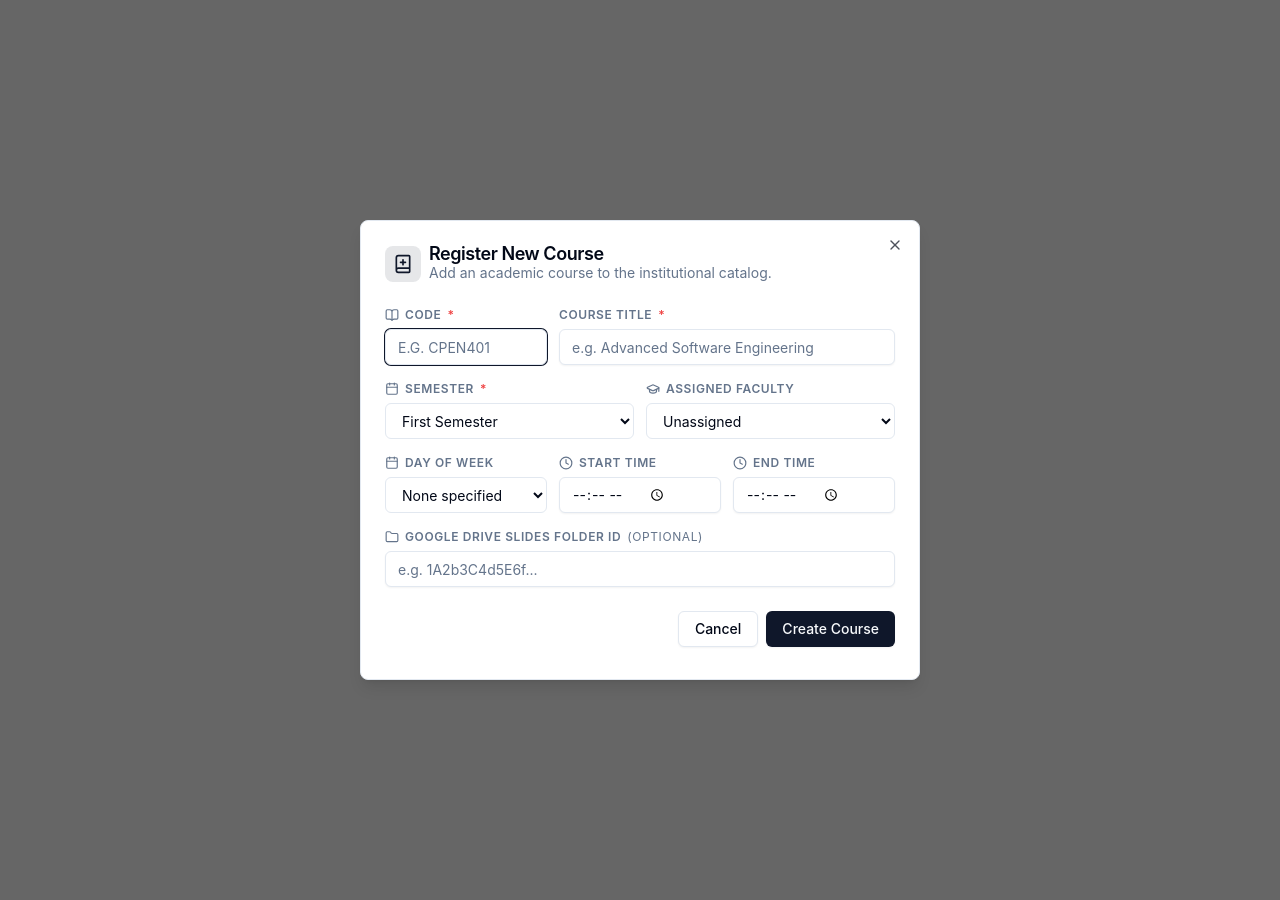
Test case: Course Dialogs and Sheets › CreateCourseDialog › validates required fields on submit
Check: the heading "Register New Course" is shown, box left=429, top=243, right=604, bottom=264
Click the button "Create Course".
click(831, 629)  # box left=766, top=611, right=895, bottom=647
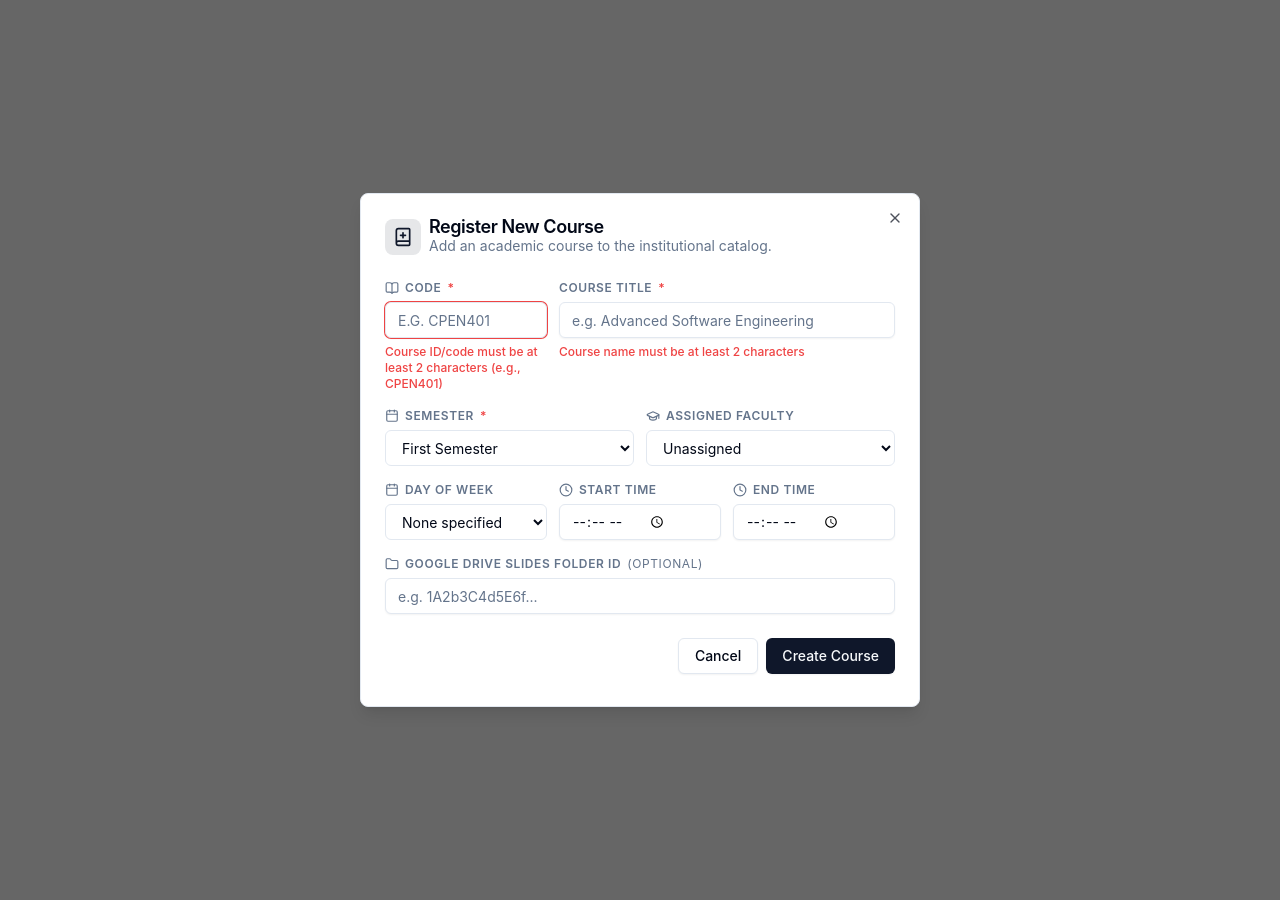
Check: the text "Course ID/code must be at least 2 characters (e.g., CPEN401)" is shown, box left=385, top=344, right=547, bottom=392
Check: the text "Course name must be at least 2 characters" is shown, box left=559, top=344, right=805, bottom=359
